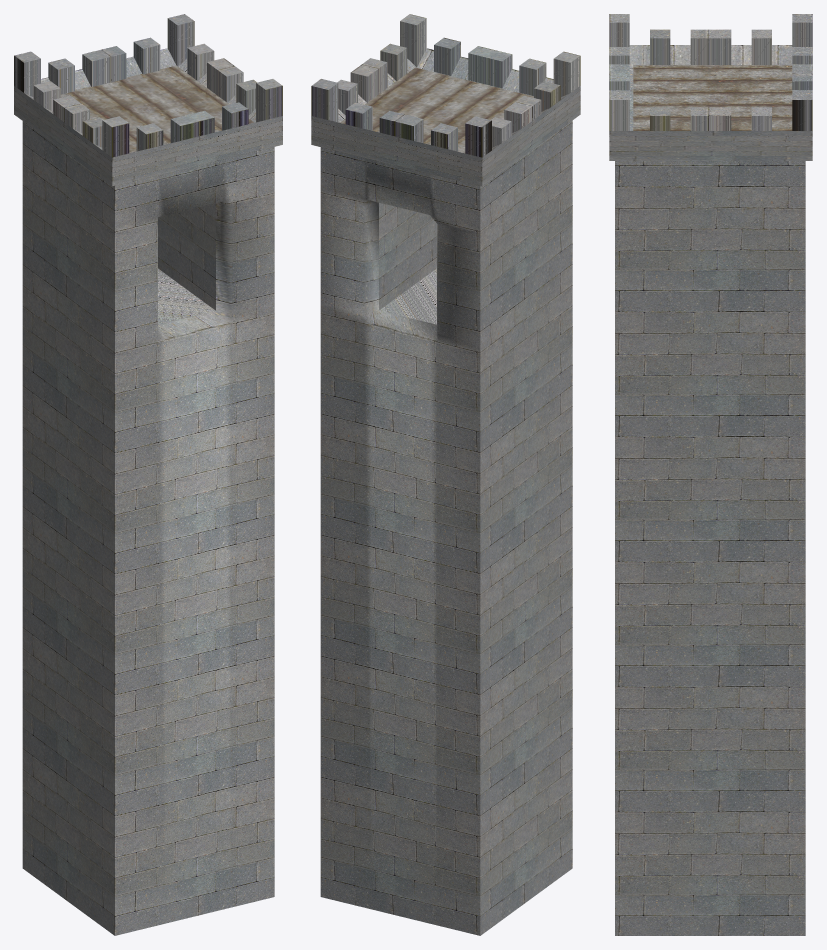
File: CastleT1.FBX
3 renders of one model, left to right at view 1: azimuth 30°, elevation 25°; view 2: azimuth 150°, elevation 25°; view 3: azimuth 270°, elevation 25°, orthographic. The views are drawn at different scales.
Parts seen in each view (by area): view 1: SquareTower, SquareTowerRidges, Object003; view 2: SquareTower, SquareTowerRidges, Object003; view 3: SquareTower, SquareTowerRidges, Object003.
Boxes of the visible parts, left/top/right/bottom form: SquareTower: left=22, top=121, right=274, bottom=935; SquareTowerRidges: left=14, top=14, right=282, bottom=186; Object003: left=60, top=65, right=253, bottom=152; SquareTower: left=320, top=120, right=572, bottom=935; SquareTowerRidges: left=311, top=14, right=580, bottom=186; Object003: left=340, top=67, right=533, bottom=153; SquareTower: left=615, top=161, right=805, bottom=935; SquareTowerRidges: left=609, top=14, right=812, bottom=160; Object003: left=633, top=65, right=792, bottom=130.
Bounding box in the file's own units: 46.01 × 209 × 45.86.
